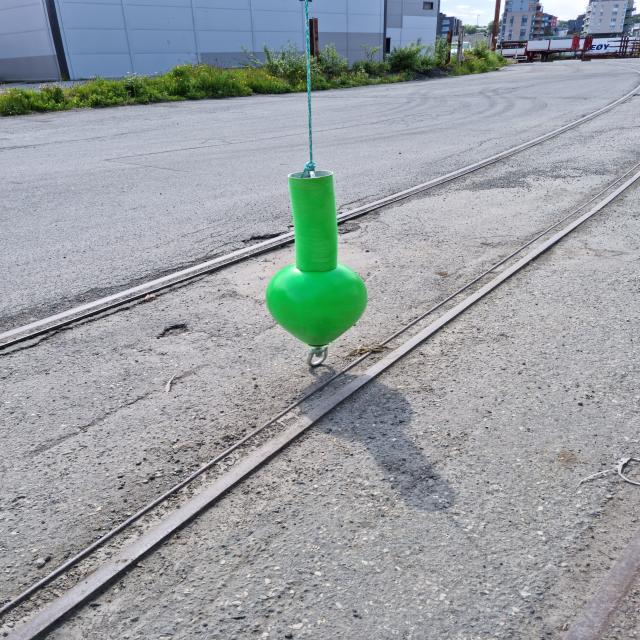green: (265, 171, 368, 345)
